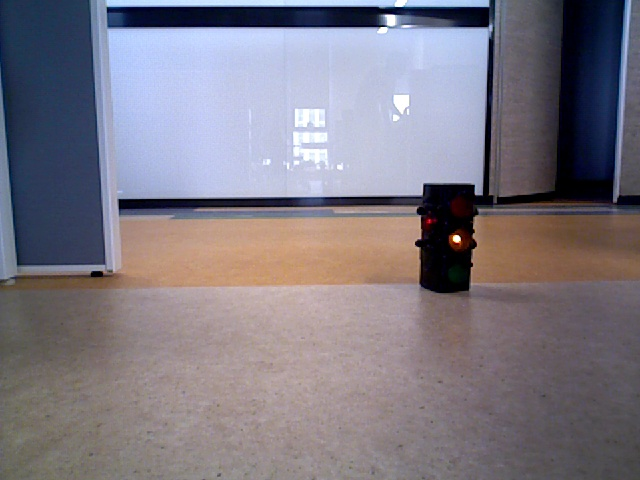yellow: (424, 183, 466, 288)
